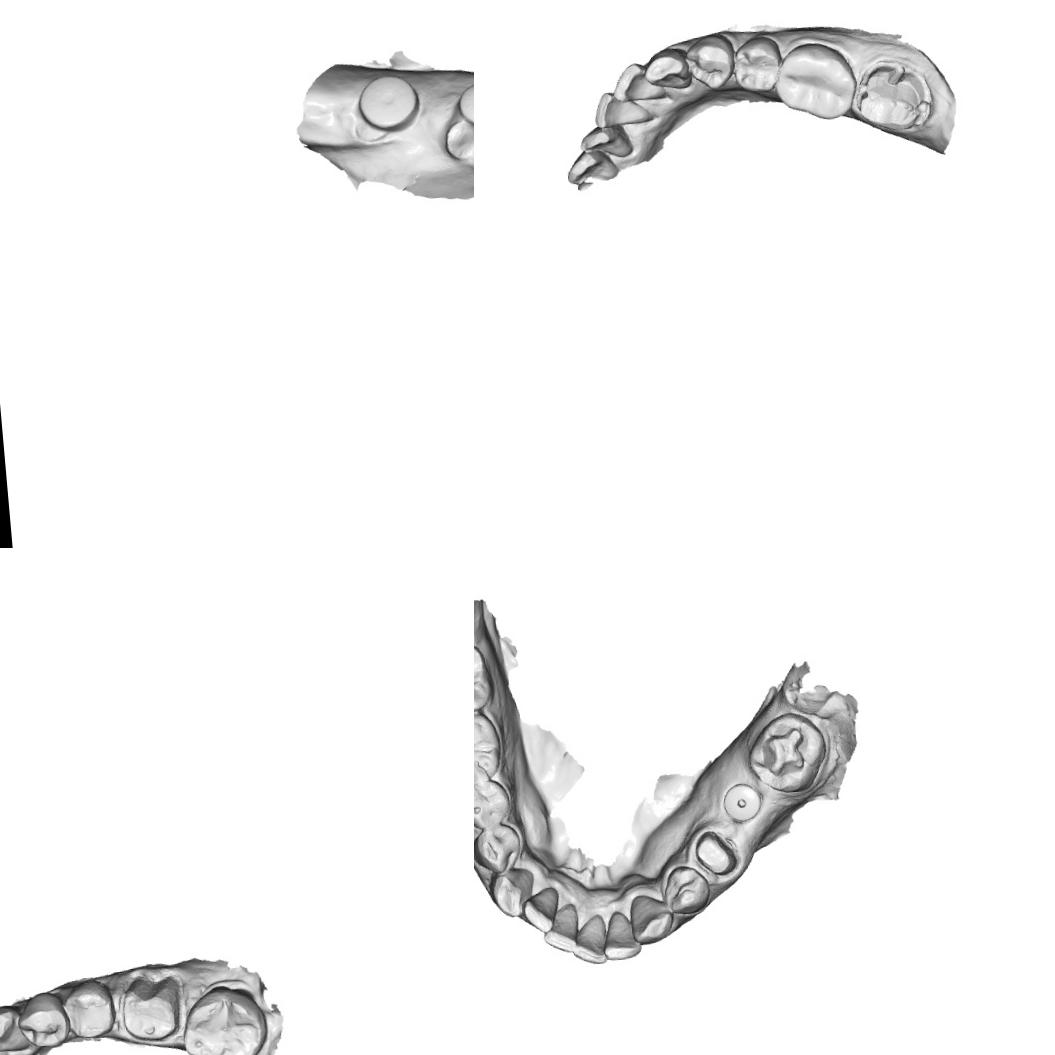canine: (484, 865, 538, 920), (626, 890, 676, 946), (641, 46, 692, 90), (0, 1000, 33, 1054)
crown: (848, 52, 936, 140), (115, 968, 187, 1046), (690, 826, 739, 880)
implant: (353, 70, 425, 134), (718, 779, 764, 825), (459, 82, 474, 129)
incisor: (589, 86, 654, 129), (610, 59, 666, 104), (540, 902, 583, 958), (599, 907, 642, 963), (518, 882, 562, 936), (570, 910, 610, 968), (577, 122, 634, 160)
inlay: (750, 724, 810, 781)
molar: (770, 33, 863, 129), (177, 978, 272, 1055), (474, 710, 505, 790), (474, 631, 496, 716)
premolar: (58, 976, 118, 1041), (14, 988, 72, 1050), (730, 31, 785, 95), (682, 31, 737, 90), (659, 862, 713, 916), (474, 821, 524, 875), (474, 777, 513, 830)
